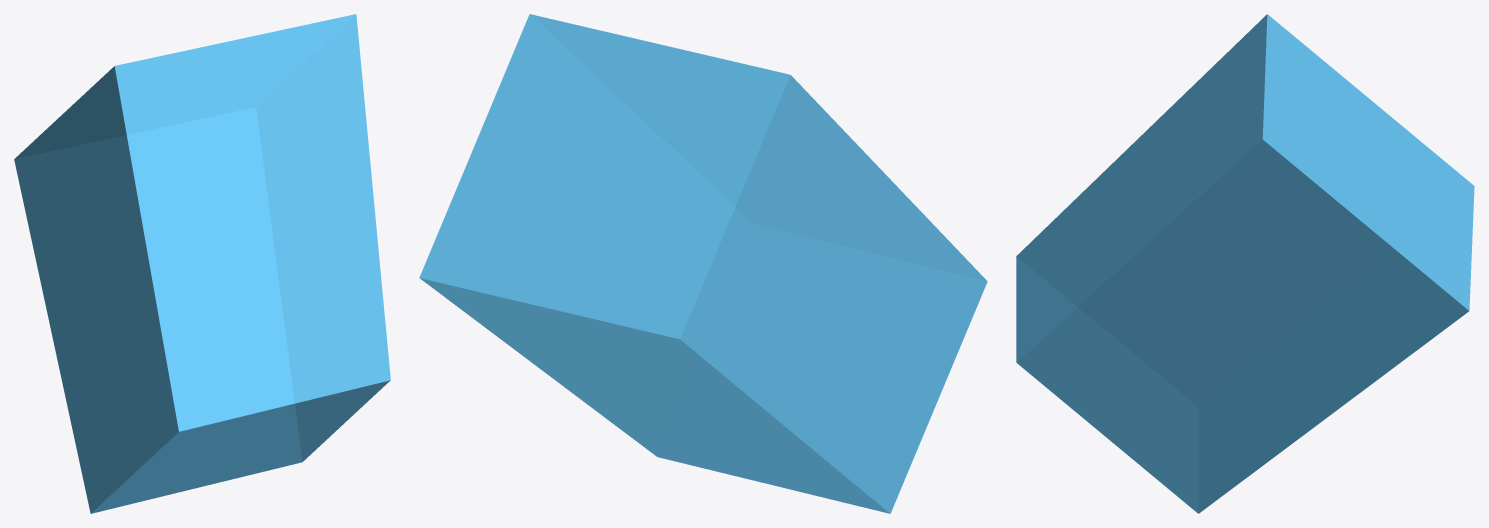
The model's file is Event_421127236_HBrechit_19.fbx.
3 views of the same model, side by side, from view 1: azimuth 30°, elevation 25°; view 2: azimuth 150°, elevation 25°; view 3: azimuth 270°, elevation 25° (orthographic). The views are drawn at different scales.
Parts seen in each view (by area): view 1: Model; view 2: Model; view 3: Model.
Part boxes in pixels (left/top/right/bottom): Model: left=14, top=14, right=390, bottom=513; Model: left=419, top=14, right=987, bottom=513; Model: left=1016, top=14, right=1474, bottom=513.
Bounding box in the file's own units: 0.5747 × 0.7577 × 0.7451.
